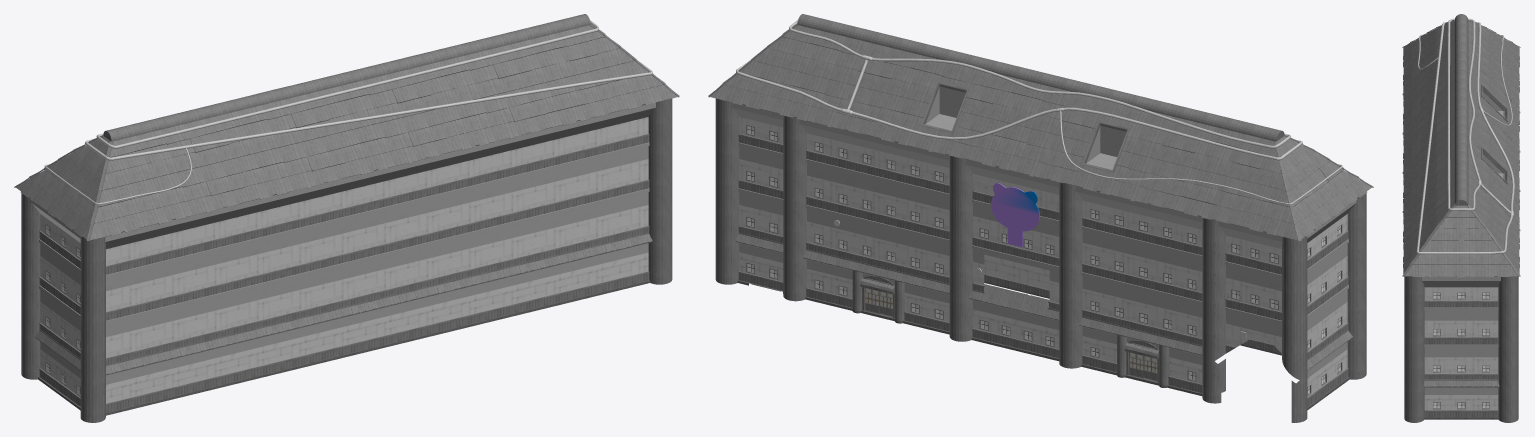
The model's file is SM_ENV_KNVLLG_AreaH_Building_A_1.mo.fbx.
3 renders of one model, left to right at view 1: azimuth 30°, elevation 25°; view 2: azimuth 150°, elevation 25°; view 3: azimuth 270°, elevation 25°, orthographic. The views are drawn at different scales.
Parts seen in each view (by area): view 1: SM_ENV_KNVLLG_AreaH_Building_A_1.mo; view 2: SM_ENV_KNVLLG_AreaH_Building_A_1.mo; view 3: SM_ENV_KNVLLG_AreaH_Building_A_1.mo.
Part boxes in pixels (<box>): SM_ENV_KNVLLG_AreaH_Building_A_1.mo: <box>14,14,679,422</box>; SM_ENV_KNVLLG_AreaH_Building_A_1.mo: <box>708,14,1373,422</box>; SM_ENV_KNVLLG_AreaH_Building_A_1.mo: <box>1402,14,1520,422</box>.
Size of the model in its own units: 81.16 by 33.19 by 17.72.
